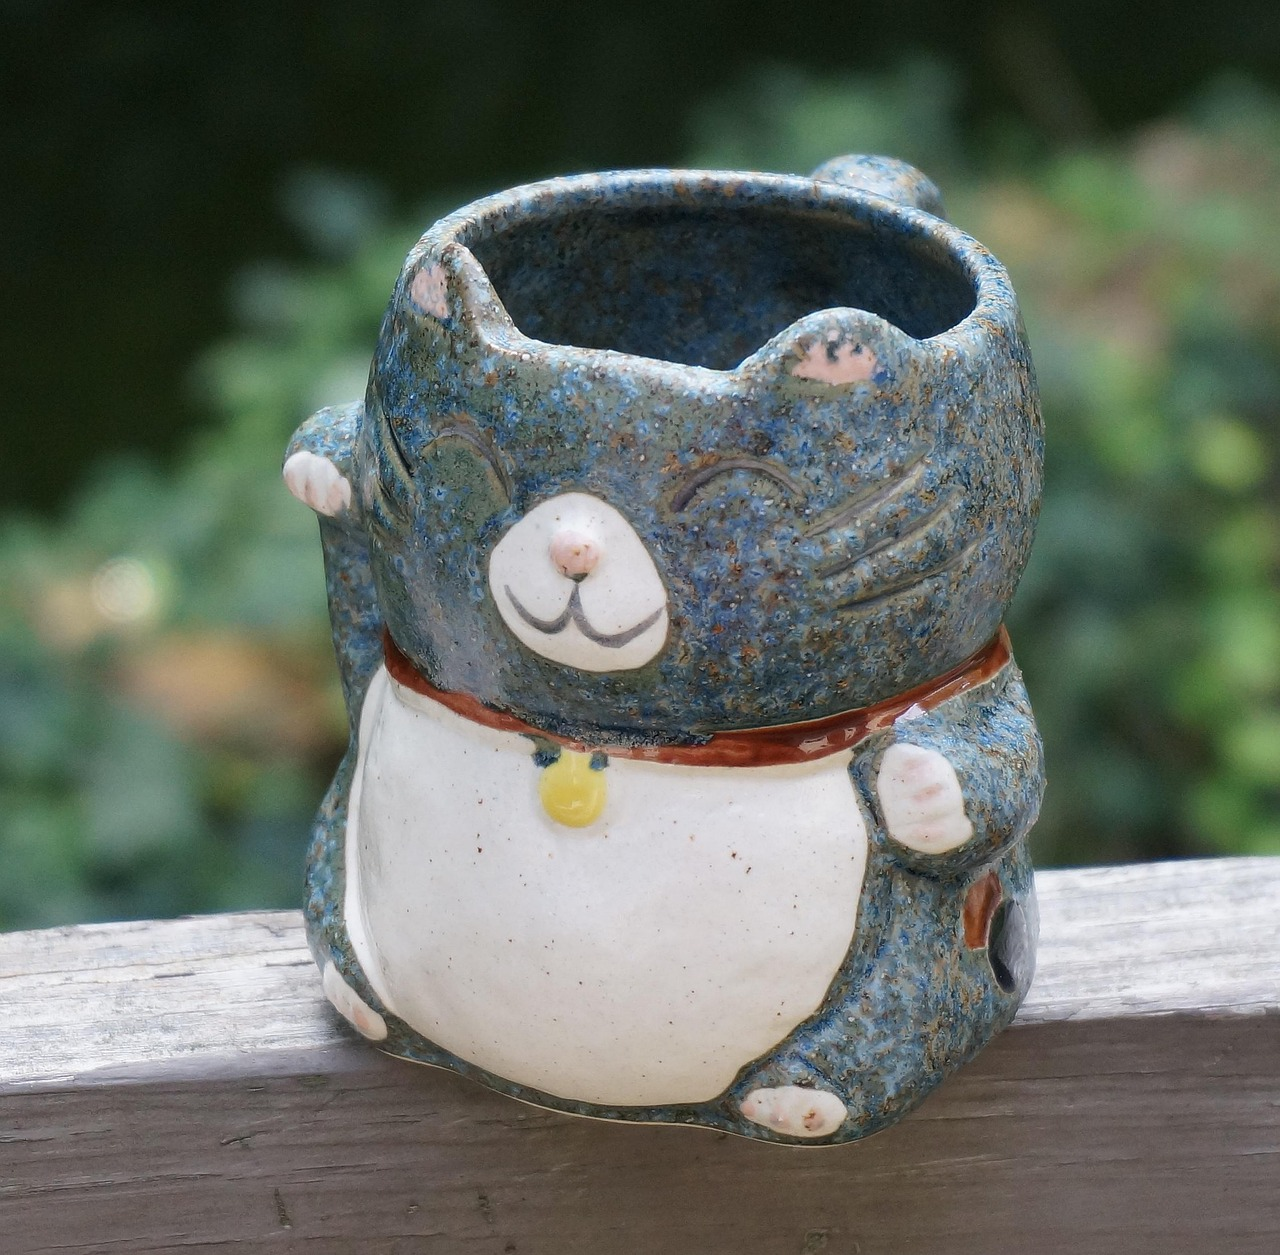mug: (163, 140, 1097, 1161)
